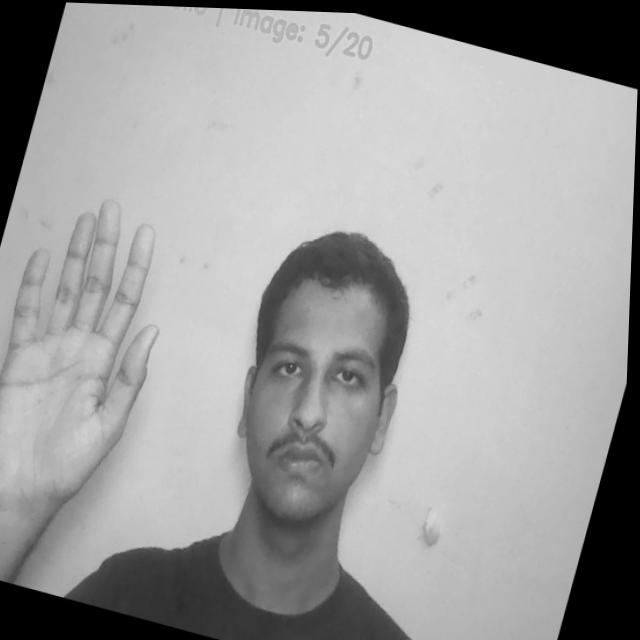Hello: (0, 169, 194, 538)
